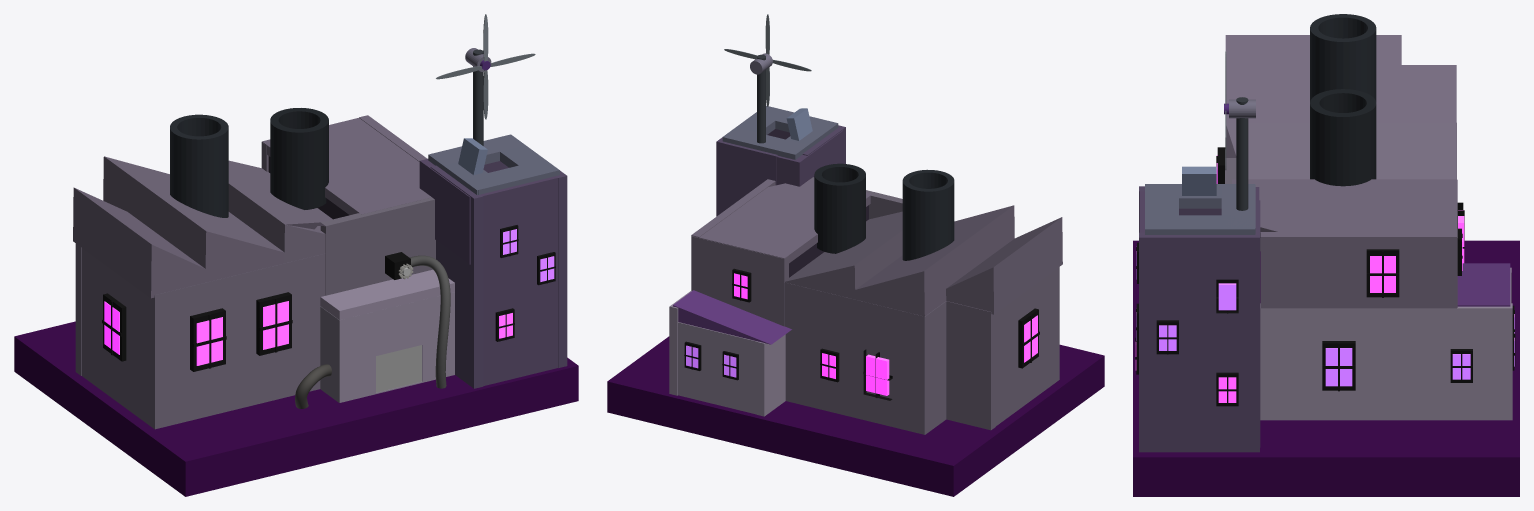
Rendered from Factory.fbx.
3 views of the same model, side by side, from view 1: azimuth 30°, elevation 25°; view 2: azimuth 150°, elevation 25°; view 3: azimuth 270°, elevation 25° (orthographic). The views are drawn at different scales.
Visible parts, largest first — view 1: Roof, Cube.009, LeftWalls, WindmillTowerBottom, FrontEntrance, Cylinder.007, Cylinder.008, Cube.003, WindowOn.005, WindowOn.009, NurbsPath.001, WindowOn.001 (+12 smaller); view 2: LeftWalls, Roof, Cube.009, RightWalls, Cylinder.008, Cylinder.007, WindmillTowerBottom, Cube.007, Cube.003, WindowOn.001, Cube.001, Cube (+7 smaller); view 3: Roof, Cube.009, RightWalls, WindmillTowerBottom, Cube, Cylinder.007, Cylinder.008, Cube.002, WindowOff.005, WindowOn.007, Cylinder.001, Cube.008 (+7 smaller).
Part boxes in pixels (x1,y1,x2,y2): Roof: (73,118,435,298); Cube.009: (14,321,578,496); LeftWalls: (75,243,325,429); WindmillTowerBottom: (430,164,567,388); FrontEntrance: (320,269,454,402); Cylinder.007: (270,108,328,209); Cylinder.008: (170,114,228,217); Cube.003: (423,161,470,264); WindowOn.005: (256,292,292,355); WindowOn.009: (190,308,226,371); NurbsPath.001: (410,255,450,388); WindowOn.001: (102,293,126,361); LeftWalls: (784,267,1059,434); Roof: (691,177,1062,326); Cube.009: (607,336,1104,496); RightWalls: (669,290,791,416); Cylinder.008: (902,169,954,260); Cylinder.007: (814,163,865,253); WindmillTowerBottom: (716,125,845,216); Cube.007: (725,128,806,159); Cube.003: (796,130,843,182); WindowOn.001: (1018,308,1039,368); Cube.001: (776,156,804,186); Cube: (691,179,775,290); Roof: (1225,35,1457,307); Cube.009: (1133,240,1519,496); RightWalls: (1260,263,1512,420); WindmillTowerBottom: (1139,186,1260,452); Cube: (1260,232,1456,308); Cylinder.007: (1310,89,1376,186); Cylinder.008: (1310,14,1376,101); Cube.002: (1145,215,1255,234); WindowOff.005: (1322,341,1355,391); WindowOn.007: (1366,249,1399,297); Cylinder.001: (1236,97,1248,210); Cube.008: (1145,184,1255,208).
Bounding box in the file's own units: 31585 × 28356 × 23829.
